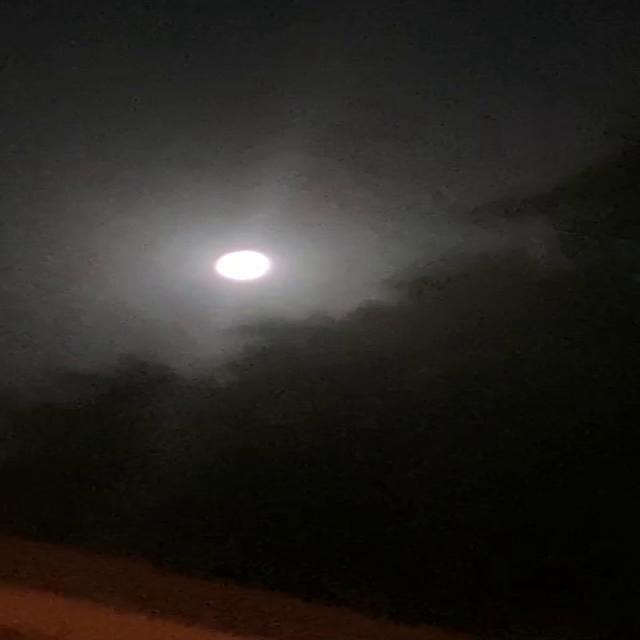moon: (194, 248, 277, 292)
